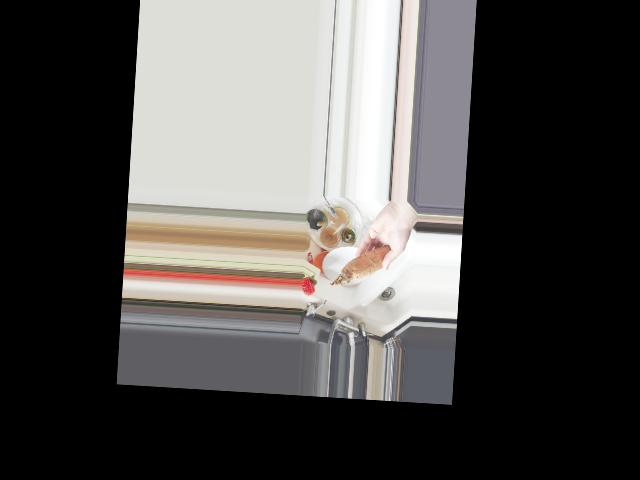sweet_potato: (328, 238, 396, 290)
